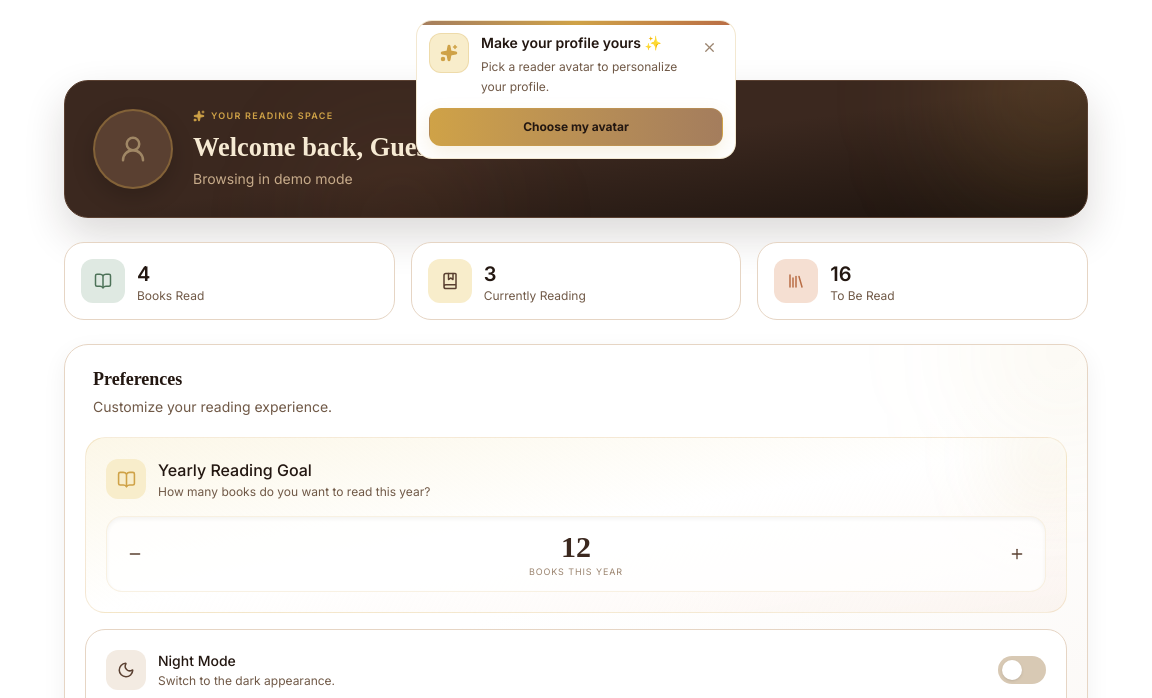
settings page — demo mode › opens the avatar picker from the reminder and saves into the demo profile store
Step 1. Click the button "Choose my avatar" → (576, 127), box [429,108,723,146]
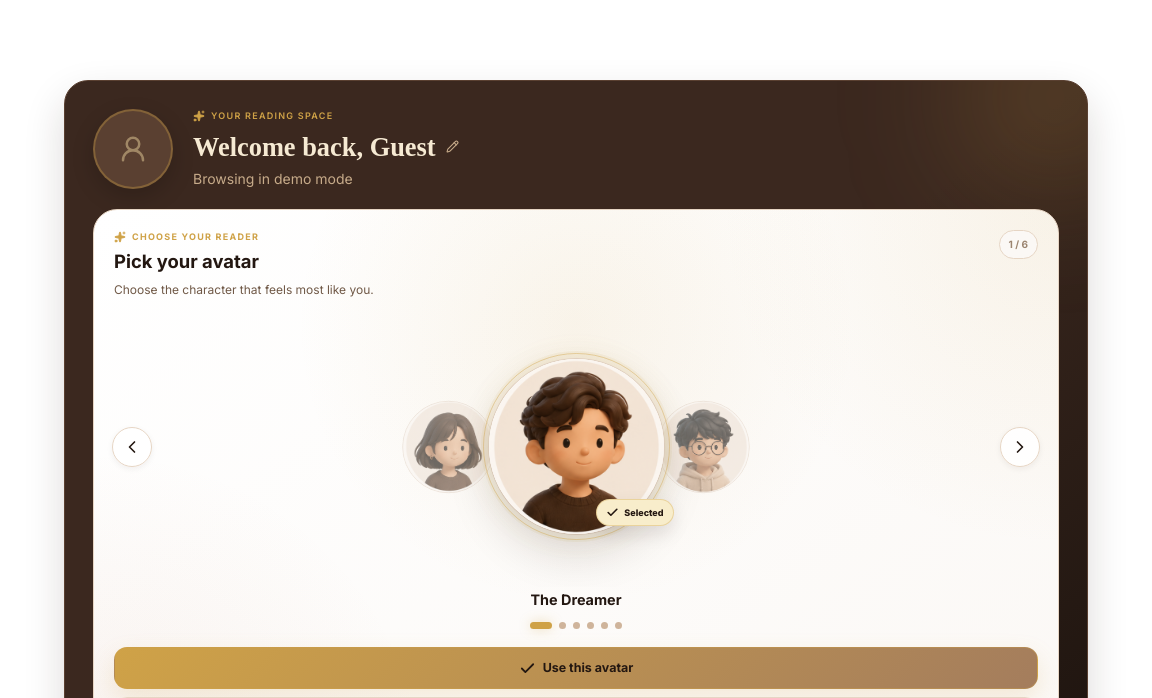
Expected: the heading "Make your profile yours" is gone
Expected: the heading "Pick your avatar" is shown, [114,250,259,272]
Expected: the text "The Dreamer" is shown, [530,591,622,608]
Step 2. Click the button named "Next avatar" → (1020, 447), box [1000,427,1040,467]
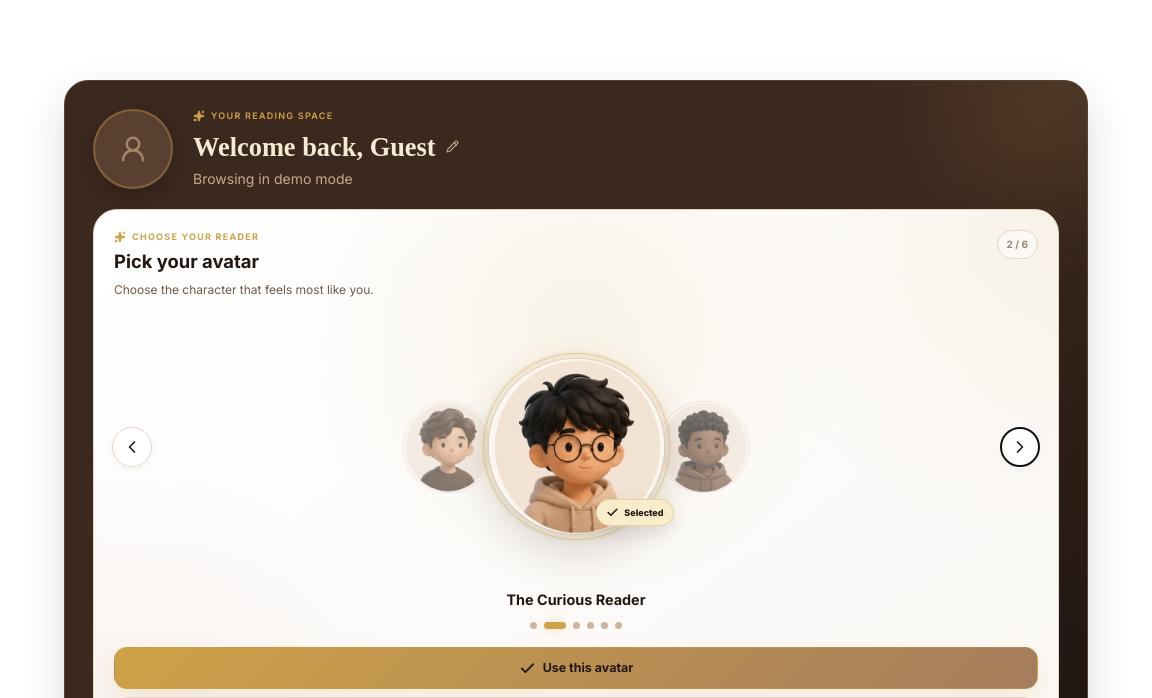
Expected: the text "The Curious Reader" is shown, [506,591,646,608]
Step 3. Click the button "Use this avatar" → (576, 668), box [114,647,1038,689]
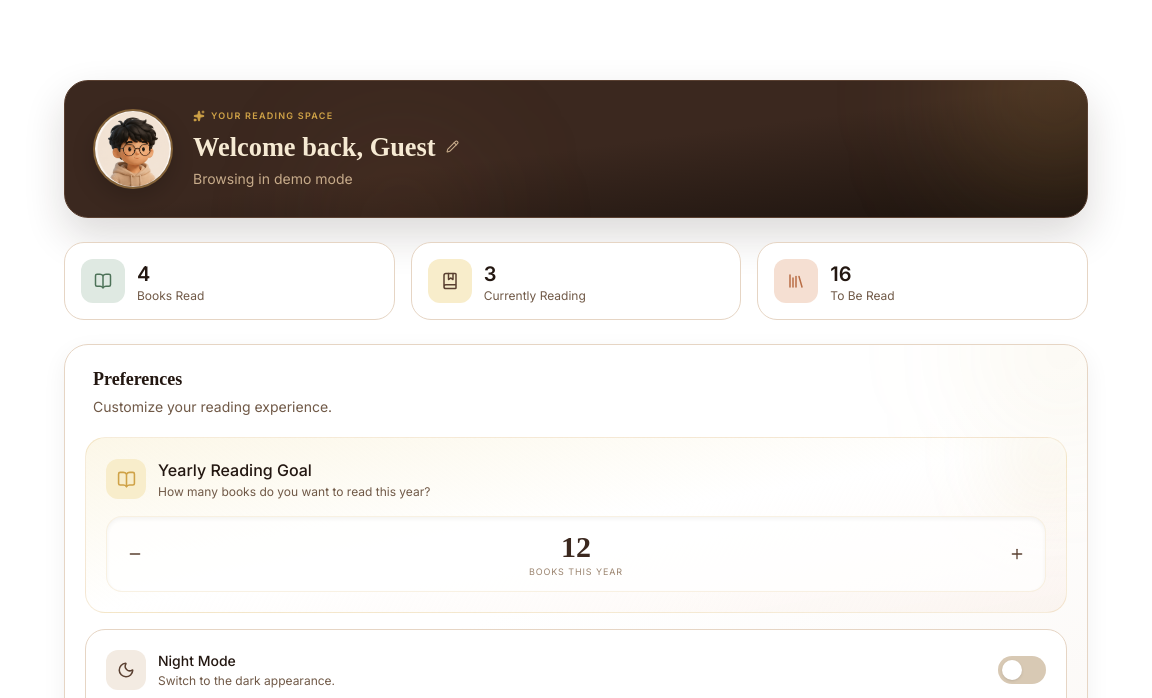
Expected: the heading "Make your profile yours" is not shown
Expected: the heading "Pick your avatar" is gone
